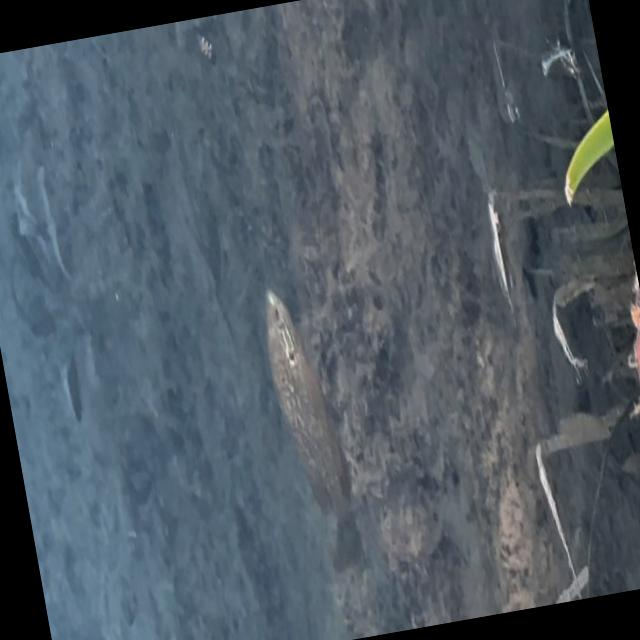Gunes Levregi: (246, 249, 396, 594)
